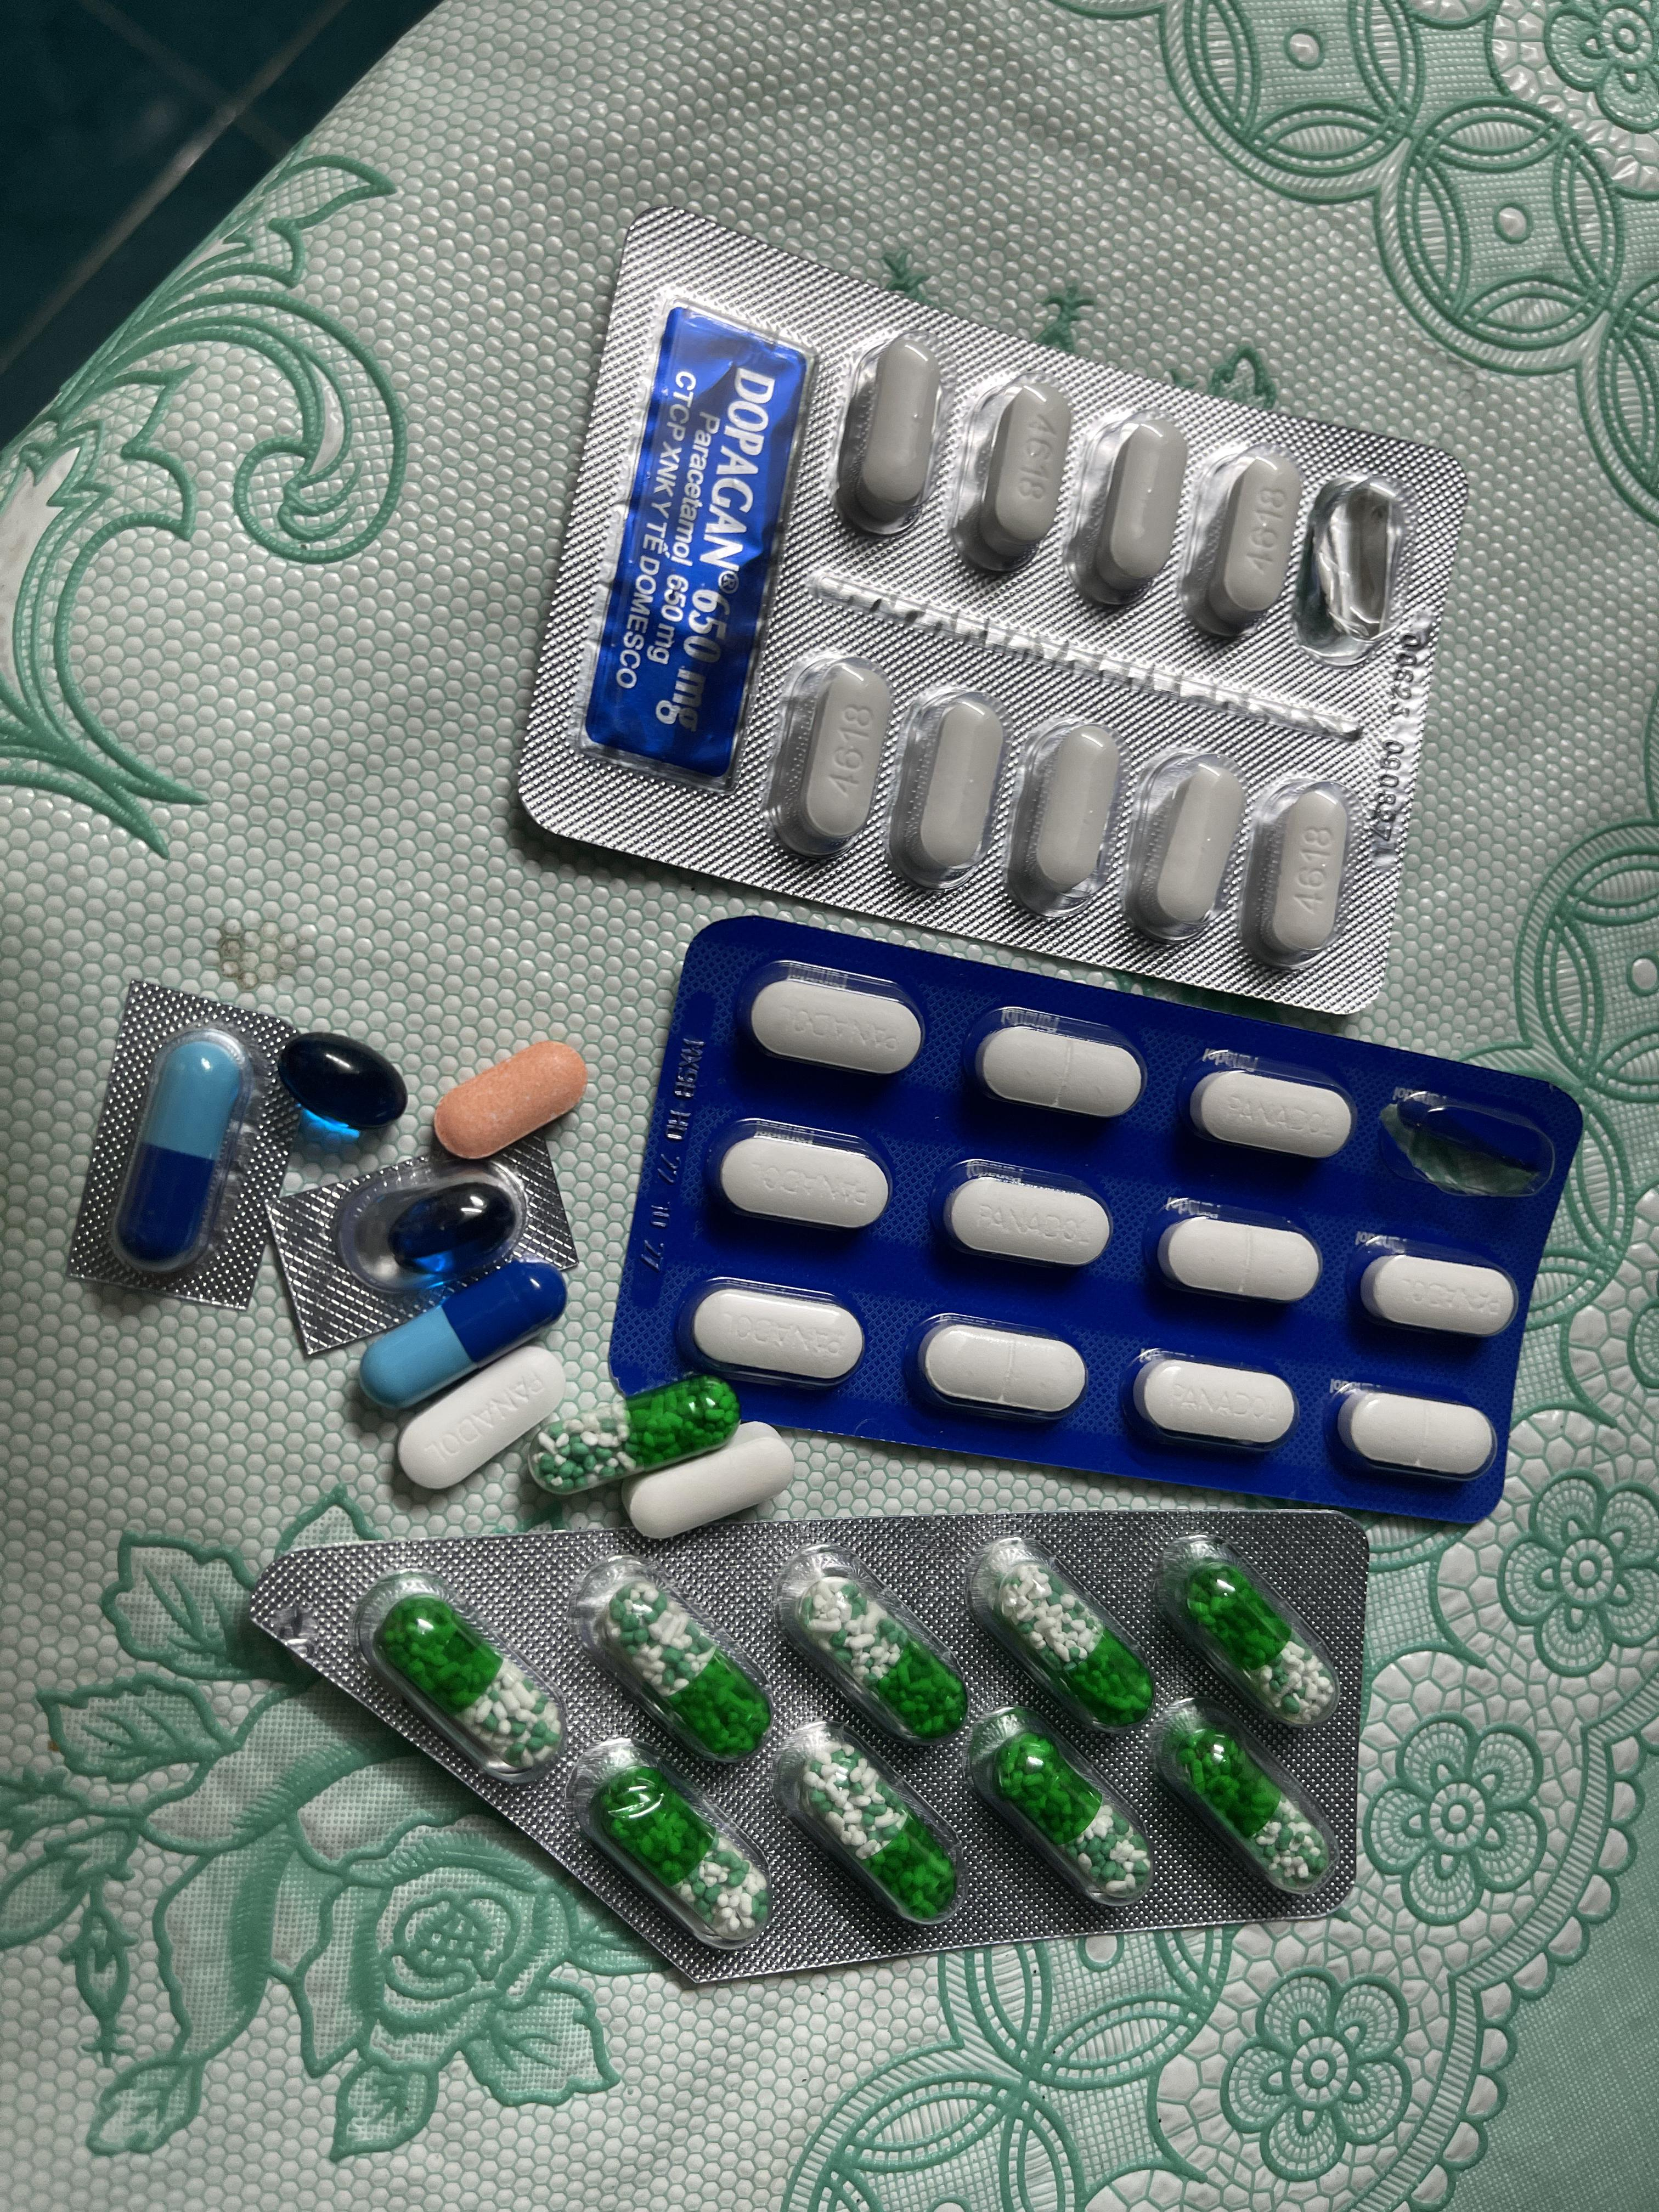Lincomyxin_500mg: (275, 1031, 411, 1141), (385, 1181, 518, 1270)
Loratadine_10mg: (429, 1042, 587, 1163)
Paracetamol_350mg: (394, 1346, 570, 1489), (709, 1122, 884, 1235), (917, 1317, 1091, 1423), (939, 1163, 1114, 1270), (751, 974, 920, 1078), (687, 1284, 854, 1386), (1335, 1385, 1499, 1484), (976, 1024, 1143, 1118), (1188, 1066, 1354, 1160), (1359, 1251, 1520, 1341), (1136, 1357, 1298, 1446), (1159, 1214, 1317, 1305)
Paracetamol_500mg: (885, 685, 1011, 888), (763, 655, 885, 860), (1065, 409, 1188, 610), (951, 371, 1073, 573), (1117, 751, 1243, 946), (1000, 721, 1122, 920), (1178, 442, 1300, 639), (831, 331, 943, 536), (1243, 780, 1354, 965), (626, 1426, 791, 1536)
Paracetamol_650mg: (1150, 1696, 1338, 1898), (380, 1595, 561, 1768), (985, 1726, 1161, 1900), (596, 1759, 770, 1933), (603, 1581, 769, 1752), (800, 1742, 953, 1923), (796, 1575, 962, 1738), (993, 1561, 1157, 1726), (533, 1371, 746, 1493), (1182, 1561, 1337, 1723)
pill: (108, 1024, 261, 1277), (359, 1258, 565, 1414)
